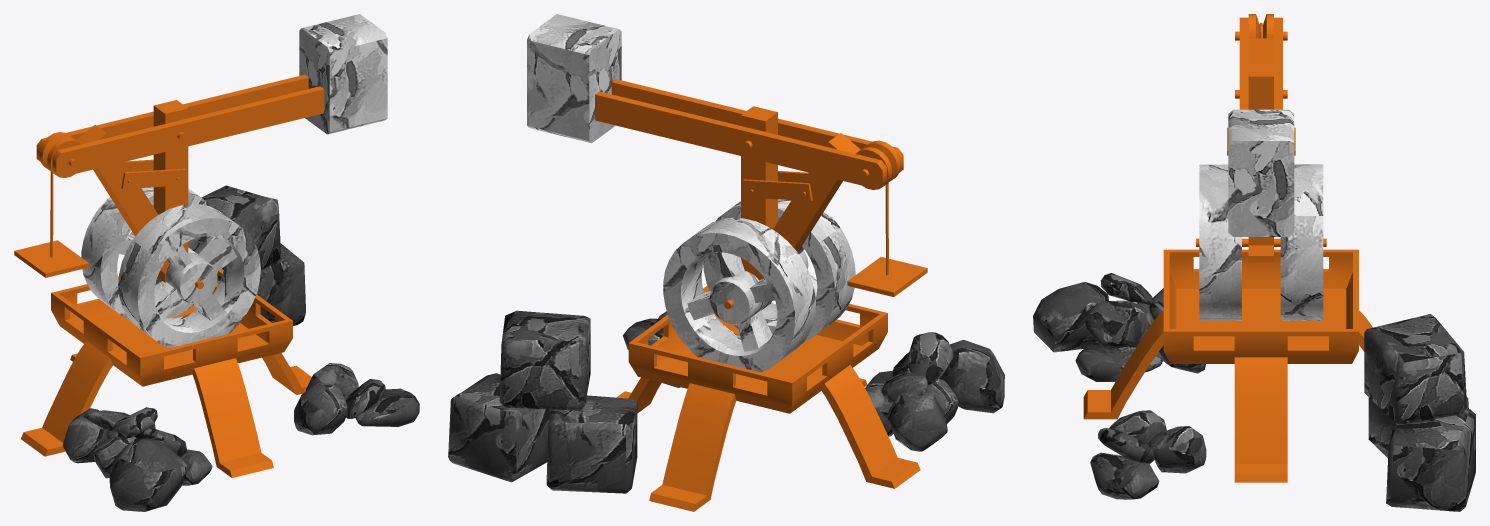
The model's file is MINIERA-ROCCIE.FBX.
3 views of the same model, side by side, from view 1: azimuth 30°, elevation 25°; view 2: azimuth 150°, elevation 25°; view 3: azimuth 270°, elevation 25° (orthographic). The views are drawn at different scales.
Visible parts, largest first — view 1: Riverstone_001; view 2: Riverstone_001; view 3: Riverstone_001.
Part boxes in pixels (left/top/right/bottom): Riverstone_001: left=14, top=14, right=419, bottom=511; Riverstone_001: left=448, top=14, right=1004, bottom=511; Riverstone_001: left=1033, top=14, right=1475, bottom=511.
Bounding box in the file's own units: 0.9909 × 0.9432 × 1.01.
4 materials, 2 textured.
